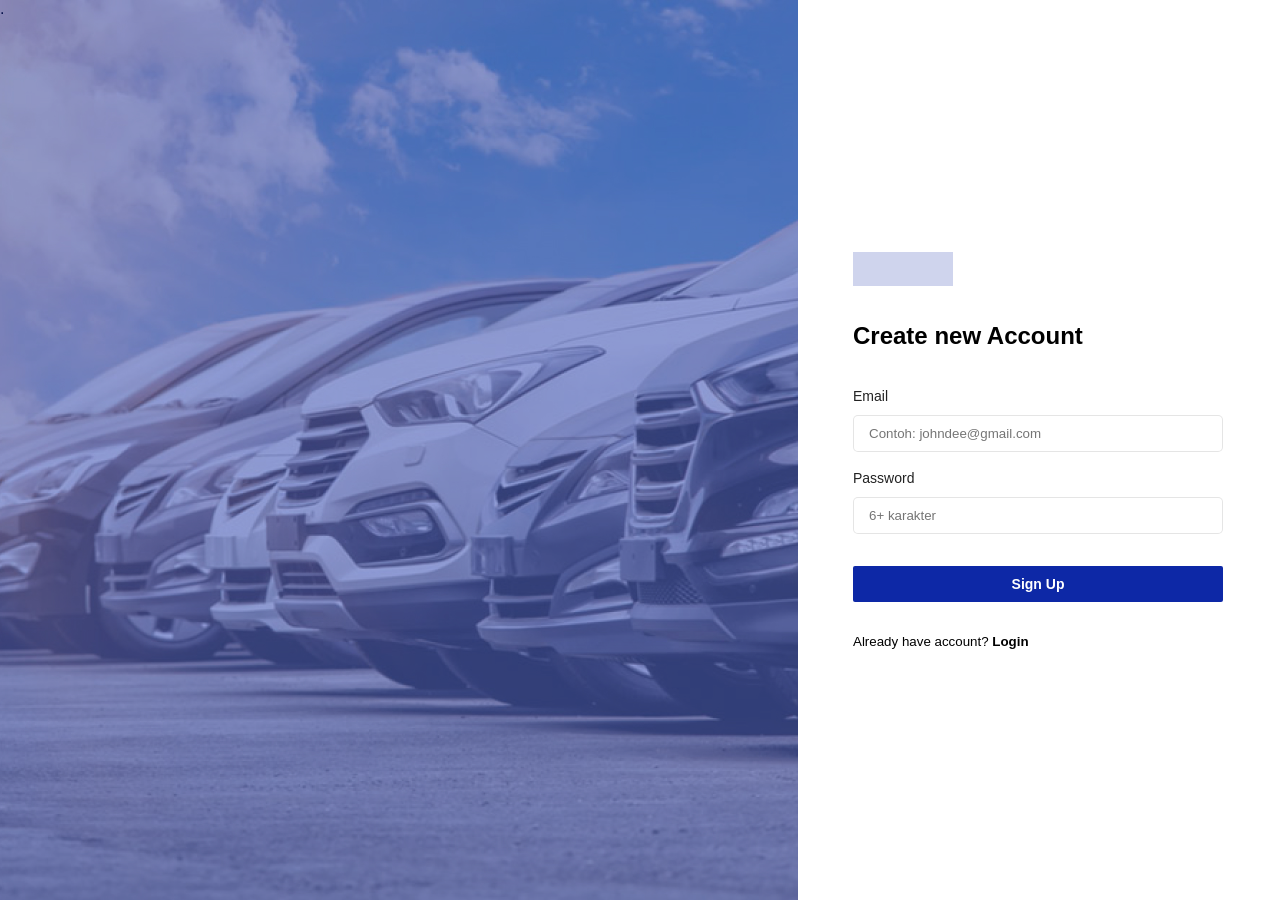
Scenario: Form behaviour › validate user inputs, and provides error messages
Type "admin" into the field labelled "Email". click: coordinates (1038, 433)
box: [853,414,1223,452]
Submit the form with test id "register-form", box [798,0,1279,899]
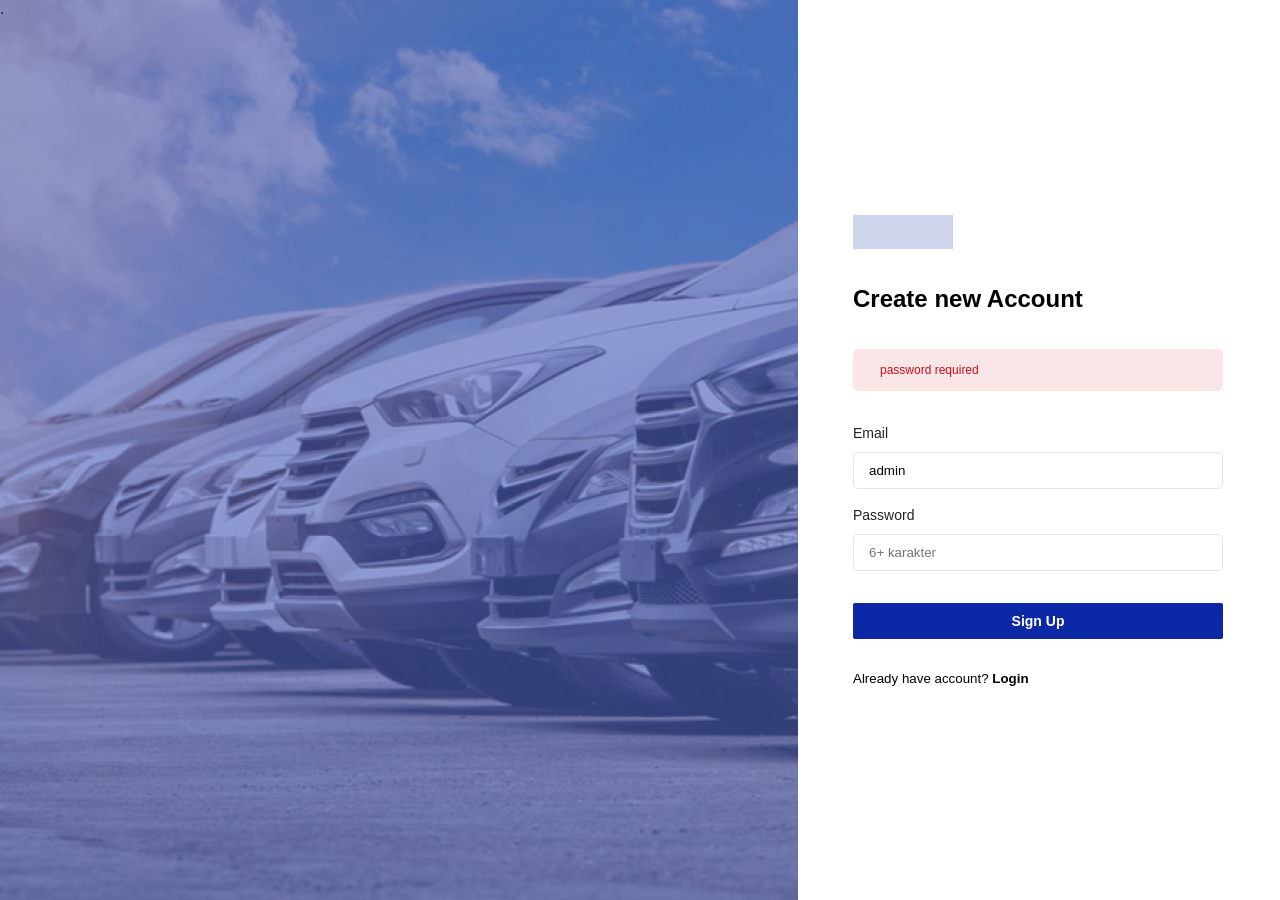
Expected: the text "password required" is shown, [880,362,979,376]
Clear the field labelled "Email". click: coordinates (1038, 470)
box: [853,452,1223,488]
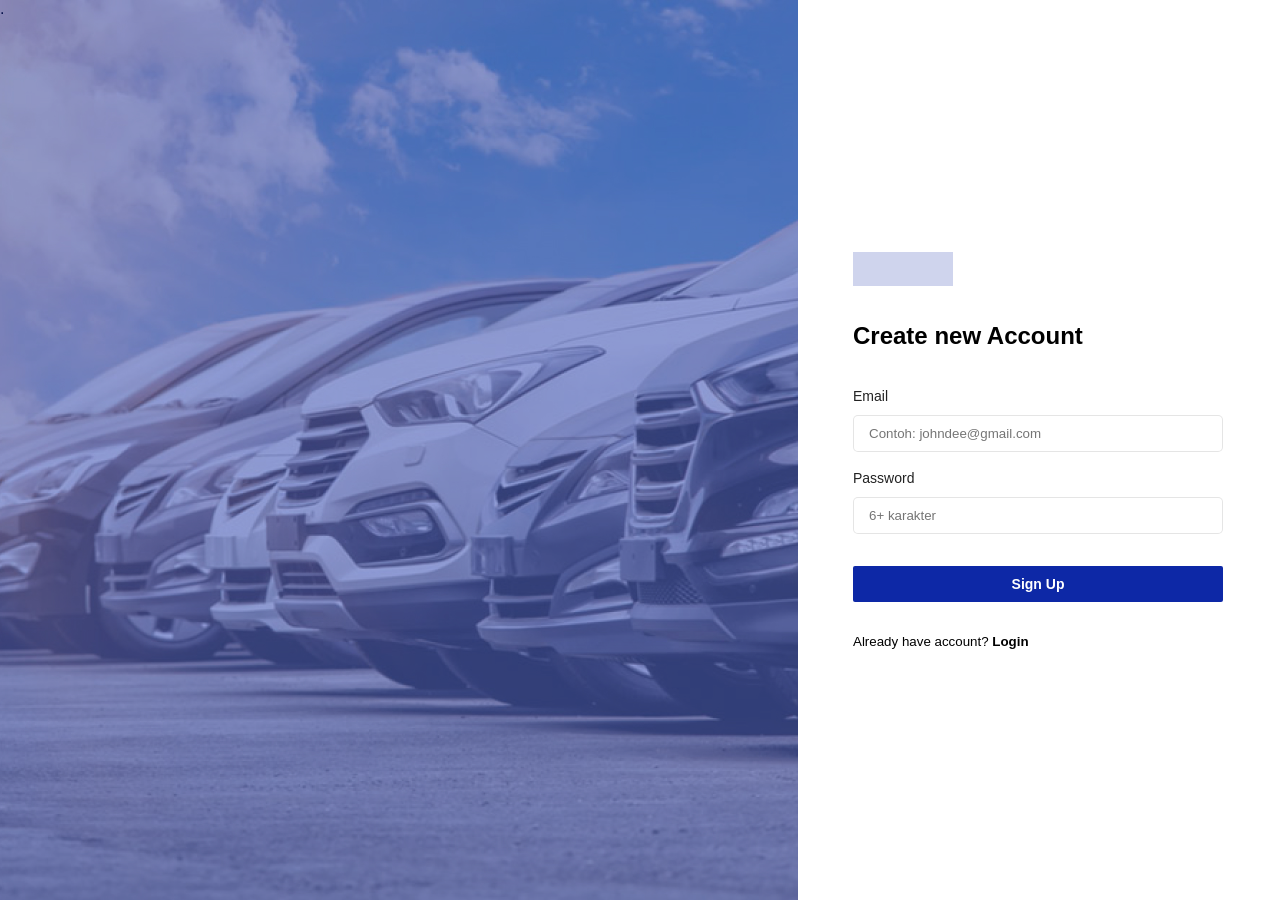
Submit the form with test id "register-form", box [798,0,1279,899]
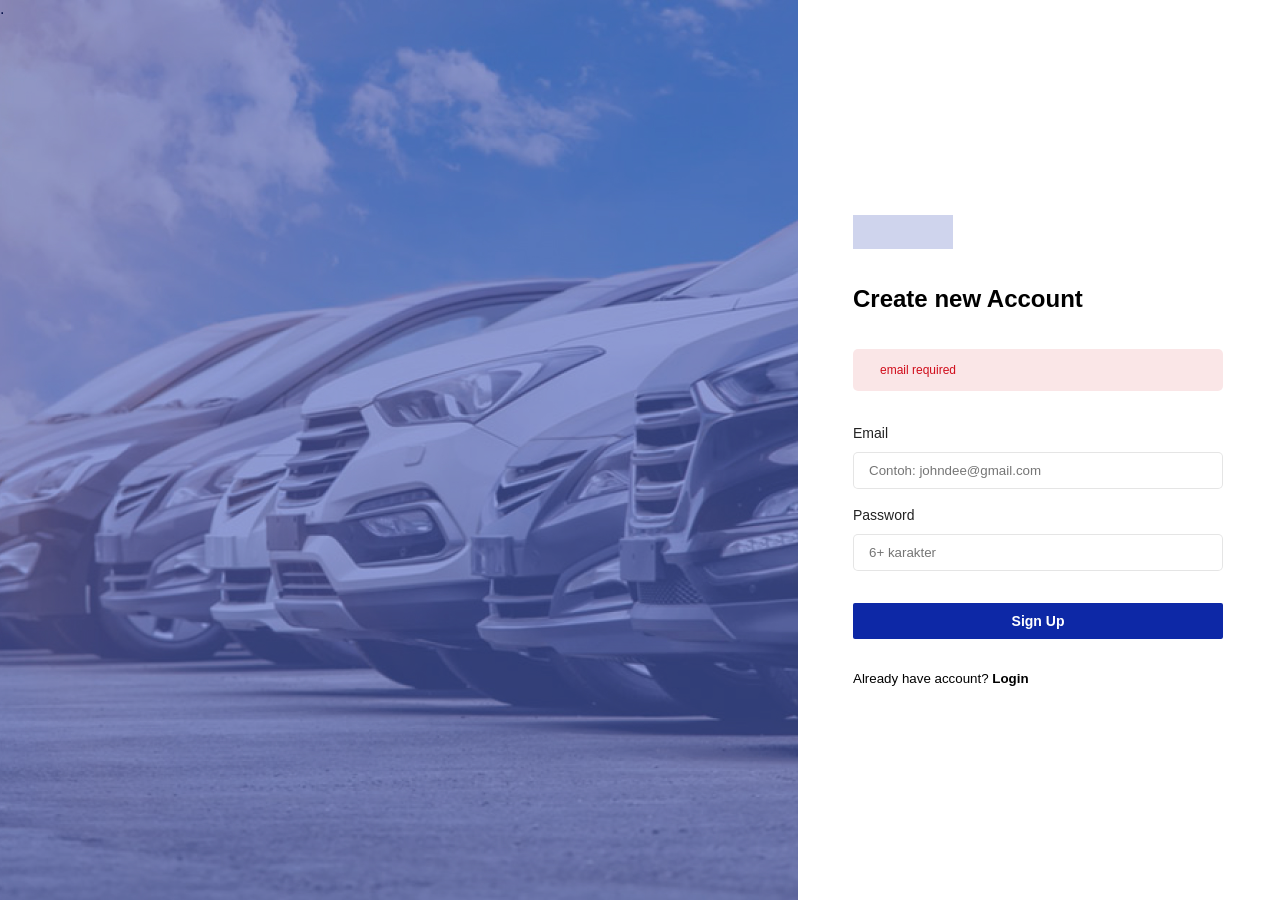
Expected: the text "email required" is shown, [880,362,956,376]
Type "admin@admin" into the field labelled "Email". click: coordinates (1038, 470)
box: [853,452,1223,488]
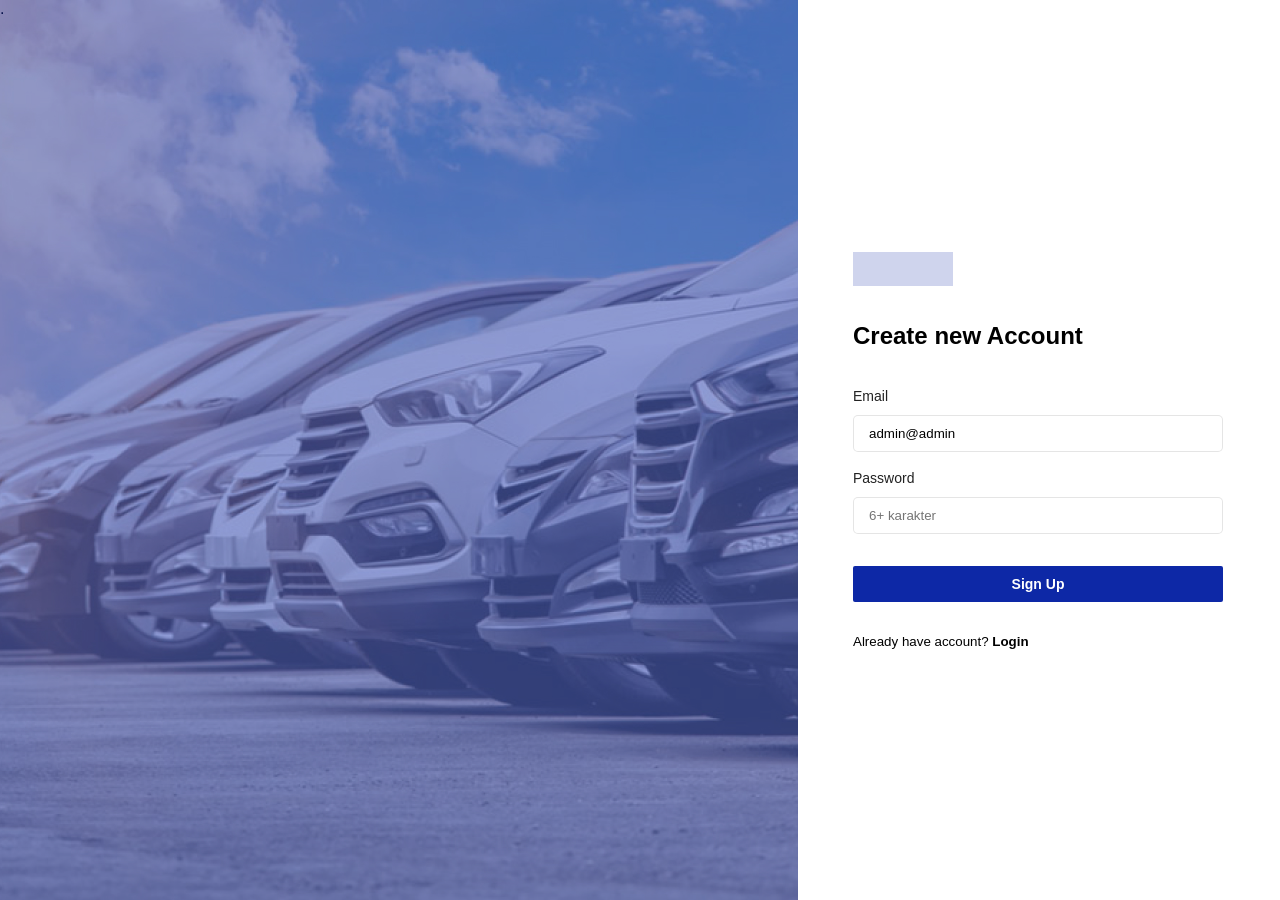
Type "11111" into the password field labelled "Password". click: coordinates (1038, 515)
box: [853,496,1223,534]
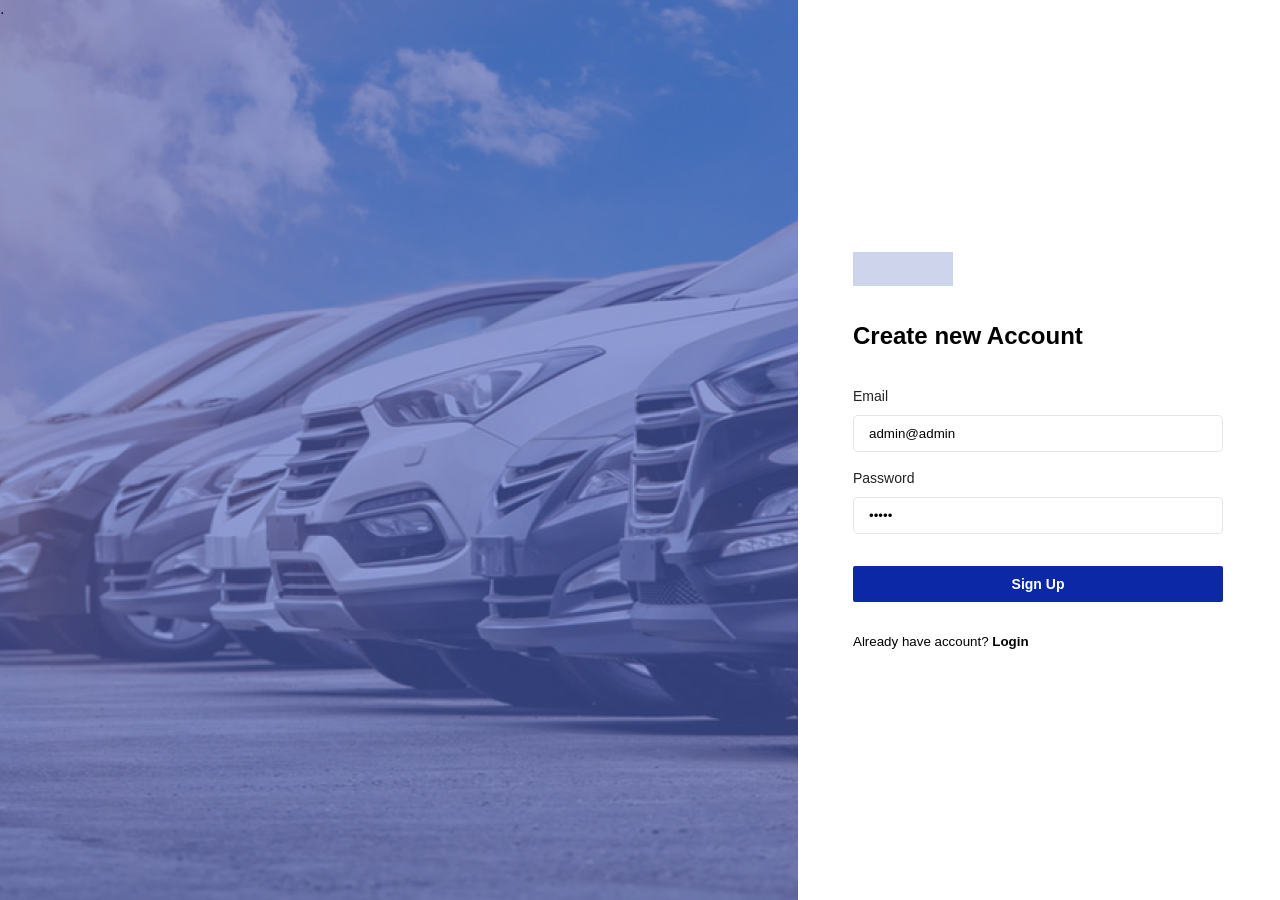
Submit the form with test id "register-form", box [798,0,1279,899]
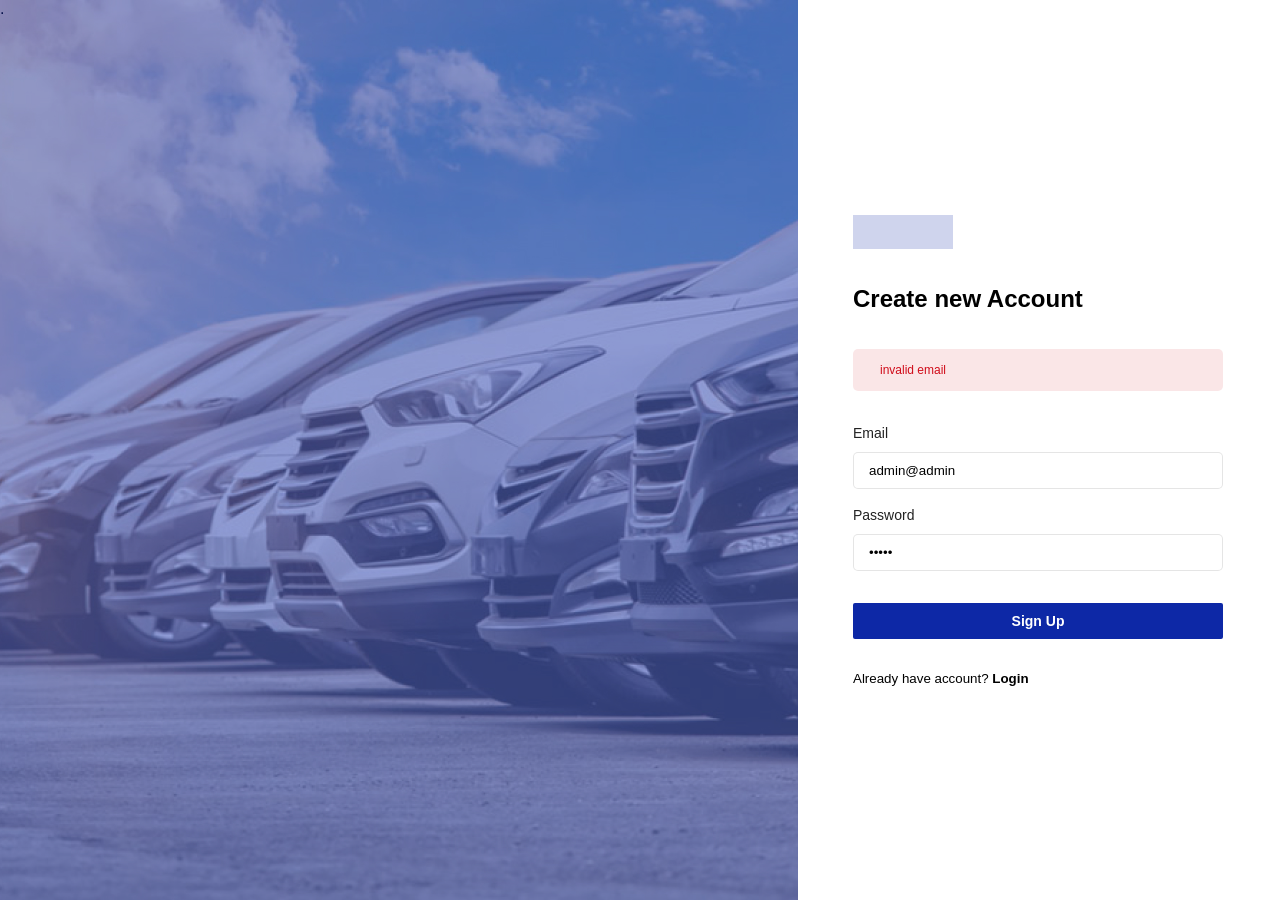
Expected: the text "invalid email" is shown, [880,362,946,376]
